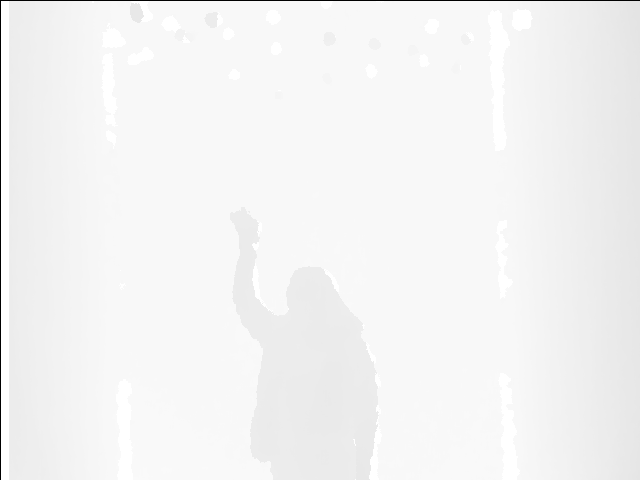hand: (228, 207, 262, 245)
